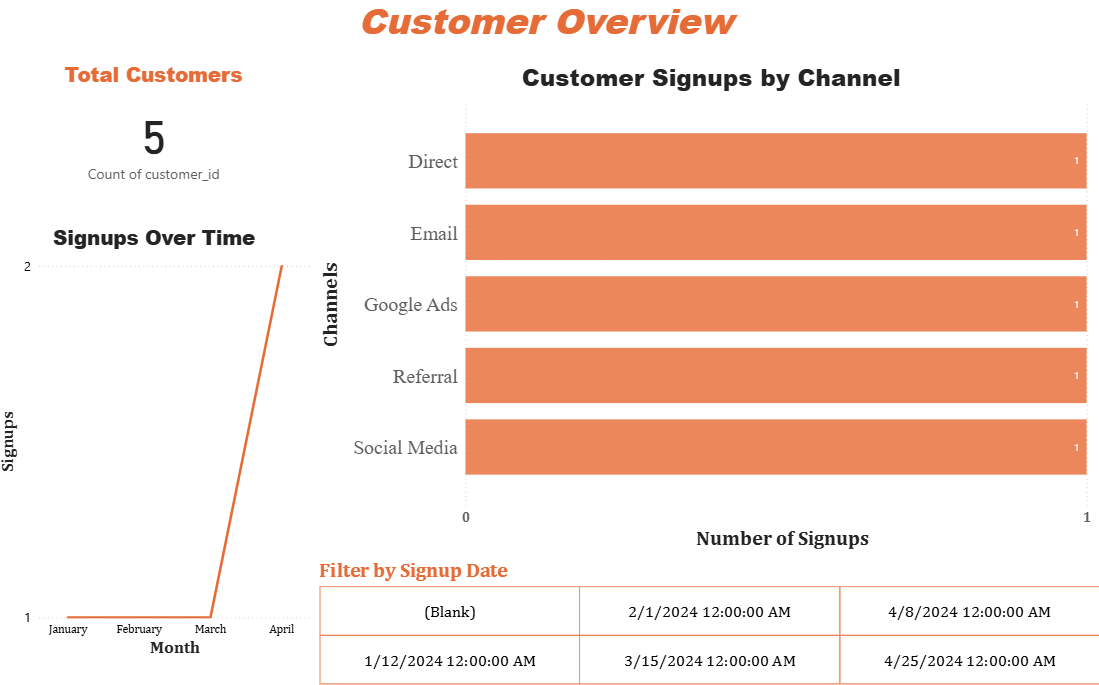

What the dashboard file says about the page in this screenshot:
{"tool":"powerbi","page":{"name":"Page 1: Customer Signups Summary","canvas":[1280,797],"ordinal":0},"visuals":[{"type":"clusteredBarChart","title":"Customer Signups by Channel","fields":{"Y":["Count(customers.customer_id)"],"Category":["customers.channel"]},"box":[369.7,74.6,910.8,566.5],"z":0},{"type":"advancedSlicerVisual","title":"Filter by Signup Date","fields":{"Values":["customers.signup_date"]},"box":[369.7,645.8,910.8,150.7],"z":1000},{"type":"card","title":"Total Customers","fields":{"Values":["Count(customers.customer_id)"]},"box":[19,74.6,328.5,150.7],"z":2000},{"type":"lineChart","title":"Signups Over Time","fields":{"Category":["customers.signup_date.Variation.Date Hierarchy.Month"],"Y":["CountNonNull(customers.customer_id)"]},"box":[0,261.8,368.1,503],"z":3000},{"type":"textbox","title":"Customer Overview","box":[414.2,0,701.4,57.1],"z":4000}]}

Visuals, with their boxes in screenshot pixels (x1, y1, x2, y2), scaled from the page's 1280x797 canvas onto the 1099x685 screenshot:
"Customer Signups by Channel" clusteredBarChart: [317, 64, 1098, 551]
"Filter by Signup Date" advancedSlicerVisual: [317, 555, 1098, 684]
"Total Customers" card: [16, 64, 298, 194]
"Signups Over Time" lineChart: [0, 225, 316, 657]
"Customer Overview" textbox: [356, 0, 958, 49]
